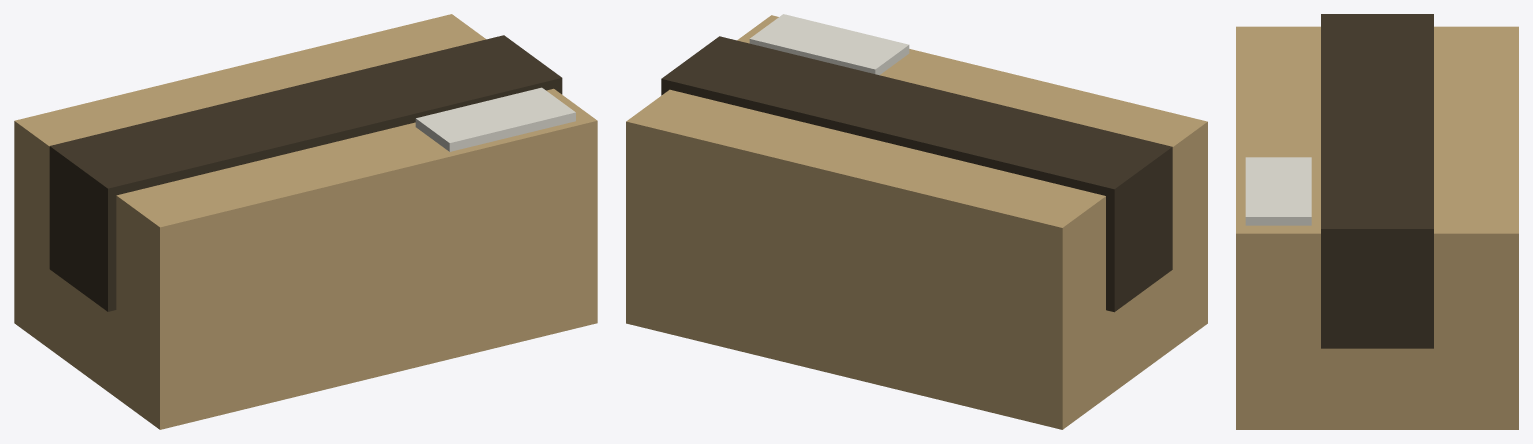
The model's file is box_small.glb.
The picture shows the model from 3 angles, left to right: view 1: azimuth 30°, elevation 25°; view 2: azimuth 150°, elevation 25°; view 3: azimuth 270°, elevation 25°; orthographic projection. The views are drawn at different scales.
Visible parts, largest first — view 1: box_small:compound; view 2: box_small:compound; view 3: box_small:compound.
Part boxes in pixels (x1=…): box_small:compound: x1=14, y1=14, x2=597, y2=429; box_small:compound: x1=626, y1=14, x2=1207, y2=429; box_small:compound: x1=1236, y1=14, x2=1518, y2=429.
Size of the model in its own units: 0.216 by 0.096 by 0.12.
